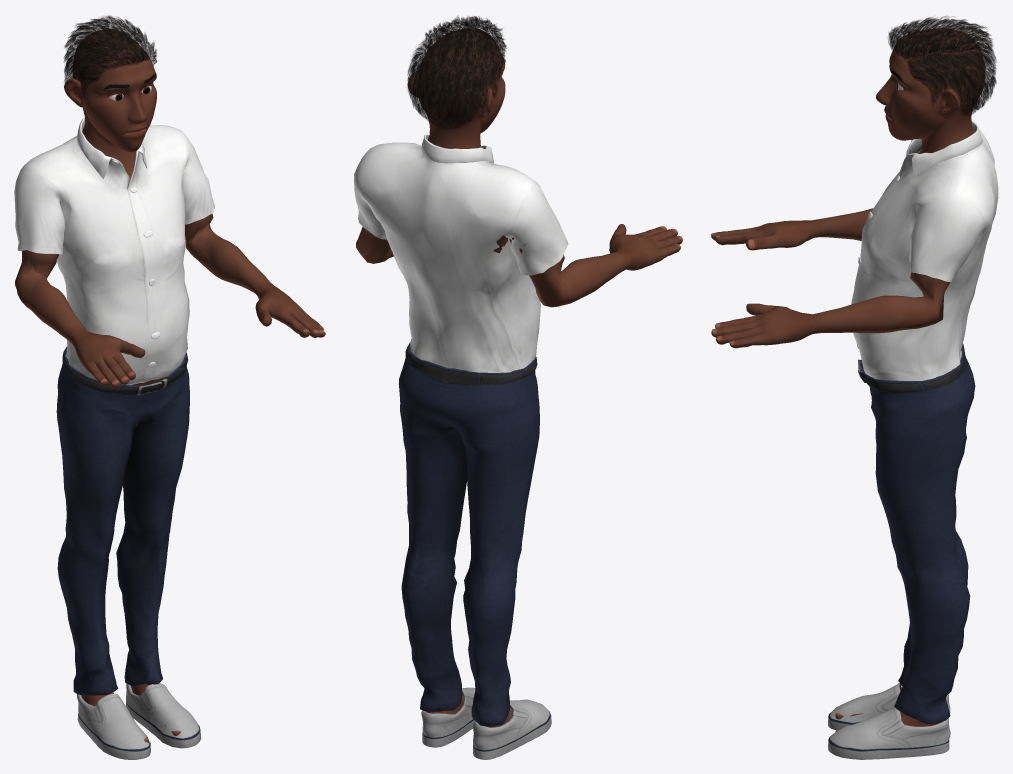
The model's file is murugan.glb.
The picture shows the model from 3 angles, left to right: view 1: azimuth 30°, elevation 25°; view 2: azimuth 150°, elevation 25°; view 3: azimuth 270°, elevation 25°; orthographic projection. The views are drawn at different scales.
Parts seen in each view (by area): view 1: Open_collar_short_sleeves_shirt_0_, Slacks_1_, CC_Base_Body, Canvas_shoes, Short_blowback; view 2: Slacks_1_, Open_collar_short_sleeves_shirt_0_, CC_Base_Body, Short_blowback, Canvas_shoes; view 3: Slacks_1_, Open_collar_short_sleeves_shirt_0_, CC_Base_Body, Short_blowback, Canvas_shoes.
Part boxes in pixels (x1,y1,x2,y2): Open_collar_short_sleeves_shirt_0_: (14, 118, 214, 385); Slacks_1_: (56, 346, 189, 695); CC_Base_Body: (15, 28, 325, 742); Canvas_shoes: (77, 683, 201, 759); Short_blowback: (63, 15, 157, 98); Slacks_1_: (398, 342, 539, 726); Open_collar_short_sleeves_shirt_0_: (354, 134, 568, 372); CC_Base_Body: (356, 29, 682, 727); Short_blowback: (407, 15, 506, 129); Canvas_shoes: (421, 687, 551, 759); Slacks_1_: (858, 344, 975, 724); Open_collar_short_sleeves_shirt_0_: (851, 121, 998, 380); CC_Base_Body: (711, 28, 985, 731); Short_blowback: (888, 15, 996, 115); Canvas_shoes: (828, 683, 950, 759).
Size of the model in its own units: 0.5601 by 1.66 by 0.6041.
Materials: 18 (18 with a texture image).
